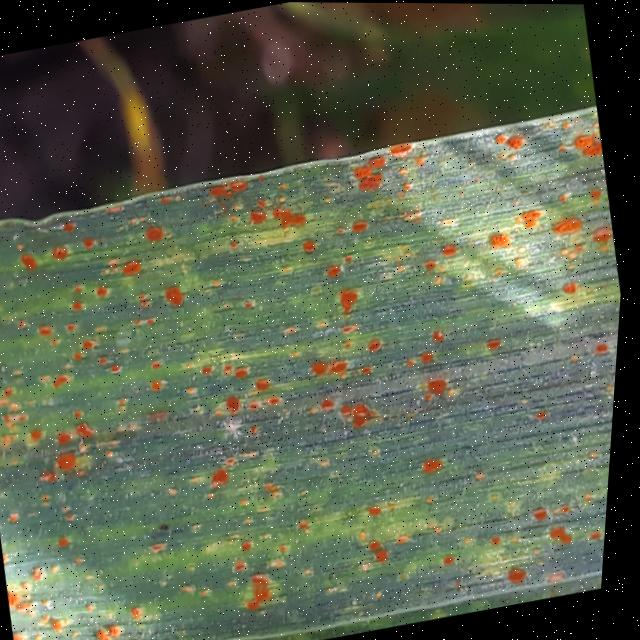orang_rust: (0, 88, 635, 640)
